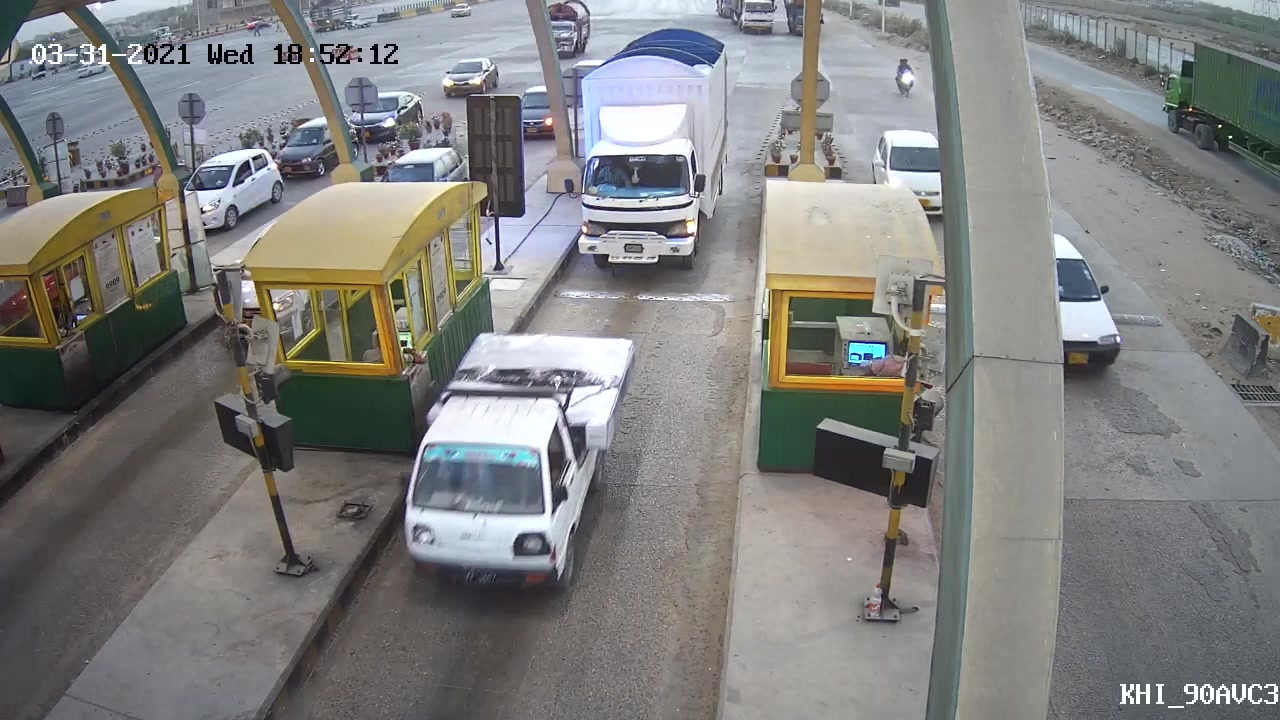F5: (563, 24, 740, 271)
